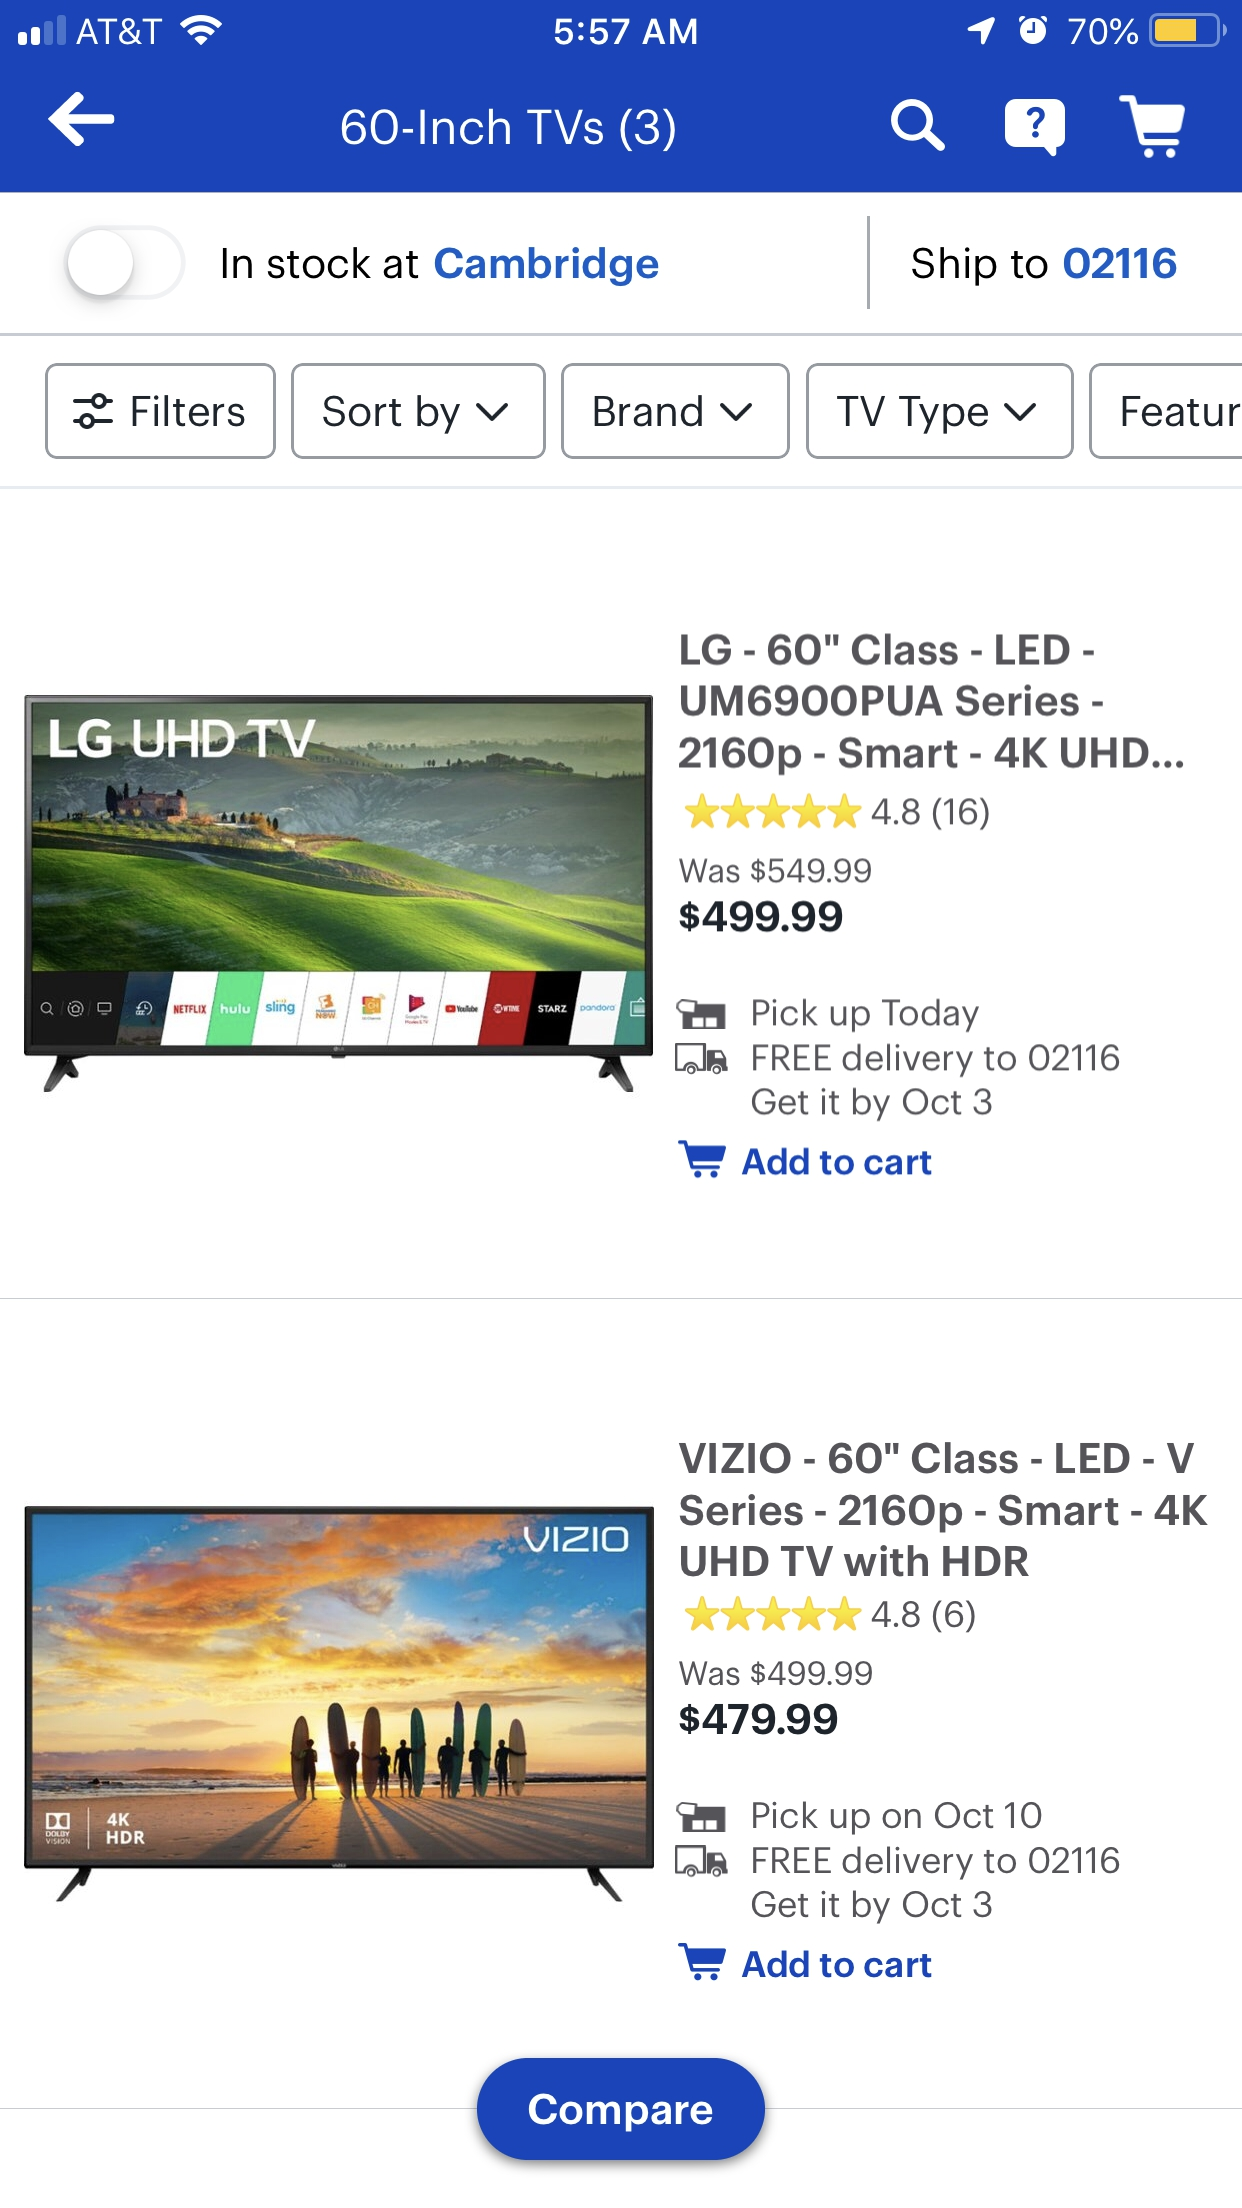Icon: (685, 1595, 863, 1632), (685, 793, 863, 830), (1118, 96, 1186, 161), (49, 93, 115, 149), (1004, 99, 1066, 158), (890, 99, 946, 153), (678, 1140, 726, 1180), (678, 1943, 726, 1981), (1004, 403, 1037, 422), (720, 403, 754, 422), (476, 403, 510, 422)
Image: (24, 695, 654, 1093), (24, 1506, 655, 1903), (675, 1043, 729, 1077), (675, 1846, 729, 1877), (676, 1802, 726, 1833), (676, 998, 726, 1030)
Switch: (64, 224, 187, 302)
Text: (679, 632, 1184, 776), (678, 1442, 1209, 1579), (751, 998, 1121, 1124), (751, 1802, 1121, 1924), (221, 247, 660, 288), (341, 108, 676, 153), (911, 247, 1177, 287), (679, 899, 843, 934), (679, 857, 872, 886), (742, 1146, 933, 1175), (742, 1950, 933, 1979), (679, 1703, 839, 1736), (678, 1661, 873, 1686), (870, 798, 990, 833), (870, 1598, 977, 1633)
TextButton: (476, 2058, 766, 2161), (805, 362, 1075, 459), (291, 362, 547, 459), (45, 362, 278, 459), (561, 362, 792, 459), (1089, 362, 1242, 459)
UpperTaskBar: (2, 2, 1242, 49)
